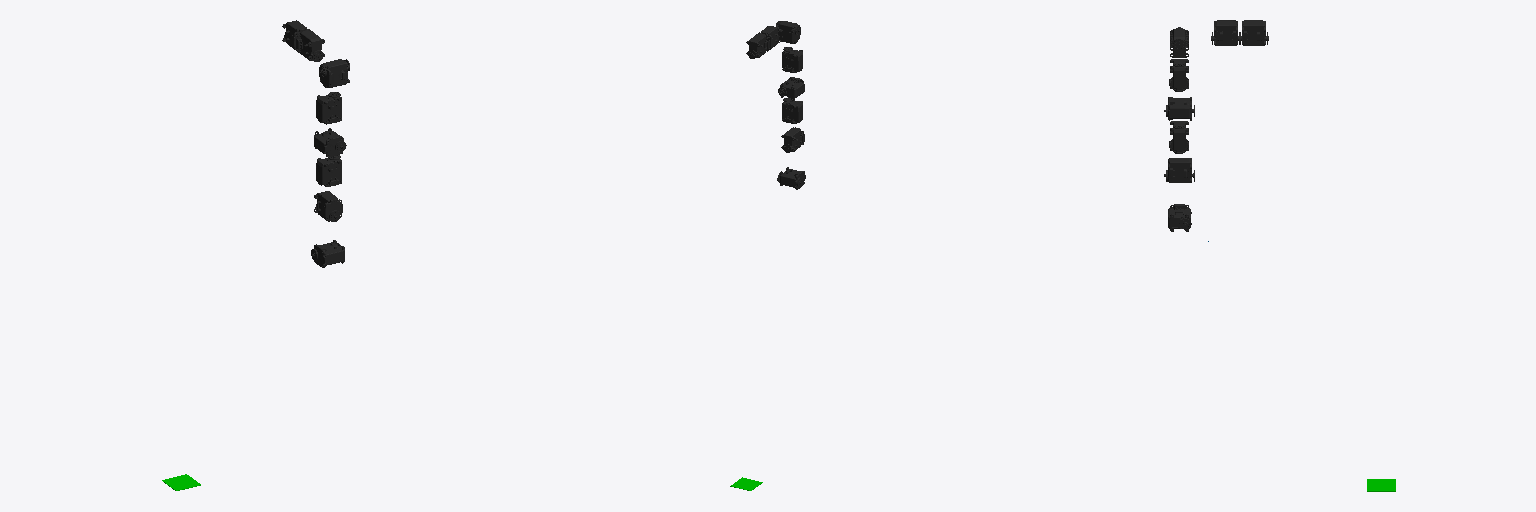
The robot description file, URDF, robot "akira":
<?xml version="1.0" ?>
<!-- =================================================================================== -->
<!-- |    This document was autogenerated by xacro from akira_with_arm.xacro           | -->
<!-- |    EDITING THIS FILE BY HAND IS NOT RECOMMENDED                                 | -->
<!-- =================================================================================== -->
<robot name="akira" xmlns:xacro="http://ros.org/wiki/xacro">
  <!-- Define a number of dimensions using properties -->
  <!-- Include all component files -->
  <material name="Black">
    <color rgba="0.2 0.2 0.2 1.0"/>
  </material>
  <material name="TransparentBlack">
    <color rgba="0.2 0.2 0.2 0.8"/>
  </material>
  <material name="Orange">
    <color rgba="1.0 0.55 0.0 1.0"/>
  </material>
  <material name="Grey">
    <color rgba="0.7 0.7 0.7 1.0"/>
  </material>
  <material name="DarkGrey">
    <color rgba="0.3 0.3 0.3 1.0"/>
  </material>
  <material name="Red">
    <color rgba="0.8 0.0 0.0 1.0"/>
  </material>
  <material name="White">
    <color rgba="1.0 1.0 1.0 1.0"/>
  </material>
  <material name="OffWhite">
    <color rgba="0.8 0.8 0.8 1.0"/>
  </material>
  <material name="Blue">
    <color rgba="0.0 0.0 0.8 1.0"/>
  </material>
  <material name="Green">
    <color rgba="0.0 0.8 0.0 1.0"/>
  </material>
  <material name="TransparentGreen">
    <color rgba="0.0 0.8 0.0 0.5"/>
  </material>
  <link name="base_footprint">
    <visual>
      <origin rpy="0 0 0" xyz="0 0 0"/>
      <geometry>
        <box size="0.05 0.05 0.001"/>
      </geometry>
      <material name="TransparentGreen"/>
    </visual>
  </link>
  <joint name="base_joint" type="fixed">
    <origin rpy="0 0 0" xyz="0 0 0.15"/>
    <parent link="base_footprint"/>
    <child link="base_link"/>
  </joint>
  <!-- Add the base and wheels -->
  <link name="base_link">
    <!-- kokoha atode mesh ninarukamo -->
    <visual>
      <origin rpy="0 0 0" xyz="0 0 0"/>
      <geometry>
        <mesh filename="package://akira_description/meshes/akira_vehicle.stl" scale="1.0 1.0 1.0"/>
      </geometry>
      <material name="Black"/>
    </visual>
    <collision>
      <origin rpy="0 0 0" xyz="0 0 0"/>
      <geometry>
        <!-- OK? -->
        <cylinder length="0.3" radius="0.25"/>
      </geometry>
    </collision>
  </link>
  <!-- Attach the torso -->
  <joint name="base_torso_joint" type="fixed">
    <origin rpy="0 0 0" xyz="0.0 0.0 0.55"/>
    <parent link="base_link"/>
    <child link="torso_link"/>
  </joint>
  <link name="torso_link">
    <visual>
      <origin rpy="0 0 0" xyz="0 0 0"/>
      <geometry>
        <mesh filename="package://akira_description/meshes/akira_torso.stl" scale="1.0 1.0 1.0"/>
      </geometry>
      <material name="Grey"/>
    </visual>
    <collision>
      <origin rpy="0 0 0" xyz="0 0 0"/>
      <geometry>
        <box size="0.29 0.46 0.77"/>
      </geometry>
    </collision>
  </link>
  <!-- Attach the right arm -->
  <link name="right_arm_base_link"/>
  <joint name="right_arm_base_joint" type="fixed">
    <origin rpy="0 0 0" xyz="0.1 -0.2 0.2"/>
    <parent link="torso_link"/>
    <child link="right_arm_base_link"/>
  </joint>
  <joint name="right_arm_shoulder_lift_R_joint" type="revolute">
    <origin rpy="-1.570795 1.570795 0" xyz="0 0 0"/>
    <axis xyz="0 0 1"/>
    <limit effort="1.0" lower="-3.14" upper="3.14" velocity="1.571"/>
    <parent link="right_arm_base_link"/>
    <child link="right_arm_shoulder_lift_R_link"/>
  </joint>
  <link name="right_arm_shoulder_lift_R_link">
    <inertial>
      <mass value="0.00001"/>
      <origin xyz="0 0 0"/>
      <inertia ixx="1.0" ixy="0.0" ixz="0.0" iyy="1.0" iyz="0.0" izz="1.0"/>
    </inertial>
    <visual>
      <origin rpy="0 0 0" xyz="0 0 0"/>
      <geometry>
        <mesh filename="package://akira_description/meshes/RS405CB.stl" scale="0.001 0.001 0.001"/>
      </geometry>
      <material name="Black"/>
    </visual>
    <collision>
      <origin rpy="0 0 0" xyz="-0.01 0.0 -0.0225"/>
      <geometry>
        <box size="0.043 0.033 0.045"/>
      </geometry>
    </collision>
  </link>
  <joint name="right_arm_shoulder_lift_L_joint" type="revolute">
    <origin rpy="1.570795 1.570795 0" xyz="0 -0.09 0"/>
    <axis xyz="0 0 1"/>
    <limit effort="1.0" lower="-3.14" upper="3.14" velocity="1.571"/>
    <parent link="right_arm_base_link"/>
    <child link="right_arm_shoulder_lift_L_link"/>
  </joint>
  <link name="right_arm_shoulder_lift_L_link">
    <inertial>
      <mass value="0.00001"/>
      <origin xyz="0 0 0"/>
      <inertia ixx="1.0" ixy="0.0" ixz="0.0" iyy="1.0" iyz="0.0" izz="1.0"/>
    </inertial>
    <visual>
      <origin rpy="0 0 0" xyz="0 0 0"/>
      <geometry>
        <mesh filename="package://akira_description/meshes/RS405CB.stl" scale="0.001 0.001 0.001"/>
      </geometry>
      <material name="Black"/>
    </visual>
    <collision>
      <origin rpy="0 0 0" xyz="-0.01 0.0 -0.0225"/>
      <geometry>
        <box size="0.043 0.033 0.045"/>
      </geometry>
    </collision>
  </link>
  <joint name="right_arm_shoulder_roll_joint" type="revolute">
    <origin rpy="1.570795 0 3.14159" xyz="0 0.0215 0.06"/>
    <axis xyz="0 0 1"/>
    <limit effort="1.0" lower="-3.14" upper="3.14" velocity="1.571"/>
    <parent link="right_arm_shoulder_lift_L_link"/>
    <child link="right_arm_shoulder_roll_link"/>
  </joint>
  <link name="right_arm_shoulder_roll_link">
    <inertial>
      <mass value="0.00001"/>
      <origin xyz="0 0 0"/>
      <inertia ixx="1.0" ixy="0.0" ixz="0.0" iyy="1.0" iyz="0.0" izz="1.0"/>
    </inertial>
    <visual>
      <origin rpy="0 0 0" xyz="0 0 0"/>
      <geometry>
        <mesh filename="package://akira_description/meshes/RS405CB.stl" scale="0.001 0.001 0.001"/>
      </geometry>
      <material name="Black"/>
    </visual>
    <collision>
      <origin rpy="0 0 0" xyz="-0.01 0.0 -0.0225"/>
      <geometry>
        <box size="0.043 0.033 0.045"/>
      </geometry>
    </collision>
  </link>
  <joint name="right_arm_shoulder_pan_joint" type="revolute">
    <origin rpy="3.14159 -1.570795 0" xyz="-0.052 0 -0.0215"/>
    <axis xyz="0 0 1"/>
    <limit effort="1.0" lower="-2.7" upper="2.7" velocity="1.571"/>
    <parent link="right_arm_shoulder_roll_link"/>
    <child link="right_arm_shoulder_pan_link"/>
  </joint>
  <link name="right_arm_shoulder_pan_link">
    <inertial>
      <mass value="0.00001"/>
      <origin xyz="0 0 0"/>
      <inertia ixx="1.0" ixy="0.0" ixz="0.0" iyy="1.0" iyz="0.0" izz="1.0"/>
    </inertial>
    <visual>
      <origin rpy="0 0 0" xyz="0 0 0"/>
      <geometry>
        <mesh filename="package://akira_description/meshes/RS405CB.stl" scale="0.001 0.001 0.001"/>
      </geometry>
      <material name="Black"/>
    </visual>
    <collision>
      <origin rpy="0 0 0" xyz="-0.01 0.0 -0.0225"/>
      <geometry>
        <box size="0.043 0.033 0.045"/>
      </geometry>
    </collision>
  </link>
  <joint name="right_arm_elbow_flex_joint" type="revolute">
    <origin rpy="-1.570795 0 0" xyz="0 0.0225 -0.0865"/>
    <axis xyz="0 0 1"/>
    <limit effort="1.0" lower="-2.7" upper="2.7" velocity="1.571"/>
    <parent link="right_arm_shoulder_pan_link"/>
    <child link="right_arm_elbow_flex_link"/>
  </joint>
  <link name="right_arm_elbow_flex_link">
    <inertial>
      <mass value="0.00001"/>
      <origin xyz="0 0 0"/>
      <inertia ixx="1.0" ixy="0.0" ixz="0.0" iyy="1.0" iyz="0.0" izz="1.0"/>
    </inertial>
    <visual>
      <origin rpy="0 0 0" xyz="0 0 0"/>
      <geometry>
        <mesh filename="package://akira_description/meshes/RS405CB.stl" scale="0.001 0.001 0.001"/>
      </geometry>
      <material name="Black"/>
    </visual>
    <collision>
      <origin rpy="0 0 0" xyz="-0.01 0.0 -0.0225"/>
      <geometry>
        <box size="0.043 0.033 0.045"/>
      </geometry>
    </collision>
  </link>
  <joint name="right_arm_forearm_flex_joint" type="revolute">
    <origin rpy="1.570795 0 0" xyz="0 0.032 -0.0225"/>
    <axis xyz="0 0 1"/>
    <limit effort="1.0" lower="-2.7" upper="2.7" velocity="1.571"/>
    <parent link="right_arm_elbow_flex_link"/>
    <child link="right_arm_forearm_flex_link"/>
  </joint>
  <link name="right_arm_forearm_flex_link">
    <inertial>
      <mass value="0.00001"/>
      <origin xyz="0 0 0"/>
      <inertia ixx="1.0" ixy="0.0" ixz="0.0" iyy="1.0" iyz="0.0" izz="1.0"/>
    </inertial>
    <visual>
      <origin rpy="0 0 0" xyz="0 0 0"/>
      <geometry>
        <mesh filename="package://akira_description/meshes/RS405CB.stl" scale="0.001 0.001 0.001"/>
      </geometry>
      <material name="Black"/>
    </visual>
    <collision>
      <origin rpy="0 0 0" xyz="-0.01 0.0 -0.0225"/>
      <geometry>
        <box size="0.043 0.033 0.045"/>
      </geometry>
    </collision>
  </link>
  <joint name="right_arm_wrist_flex_joint" type="revolute">
    <origin rpy="-1.570795 1.570795 0" xyz="-0.012 0.0225 -0.097"/>
    <axis xyz="0 0 1"/>
    <limit effort="1.0" lower="-2.7" upper="2.7" velocity="1.571"/>
    <parent link="right_arm_forearm_flex_link"/>
    <child link="right_arm_wrist_flex_link"/>
  </joint>
  <link name="right_arm_wrist_flex_link">
    <inertial>
      <mass value="0.00001"/>
      <origin xyz="0 0 0"/>
      <inertia ixx="1.0" ixy="0.0" ixz="0.0" iyy="1.0" iyz="0.0" izz="1.0"/>
    </inertial>
    <visual>
      <origin rpy="0 0 0" xyz="0 0 0"/>
      <geometry>
        <mesh filename="package://akira_description/meshes/RS405CB.stl" scale="0.001 0.001 0.001"/>
      </geometry>
      <material name="Black"/>
    </visual>
    <collision>
      <origin rpy="0 0 0" xyz="-0.01 0.0 -0.0225"/>
      <geometry>
        <box size="0.043 0.033 0.045"/>
      </geometry>
    </collision>
  </link>
  <!-- Attach the right gripper -->
  <joint name="right_gripper_base_joint" type="revolute">
    <origin rpy="1.570795 -1.570795 0" xyz="0.0805 -0.023 -0.012"/>
    <axis xyz="0 0 1"/>
    <limit effort="1.0" lower="-3.14" upper="3.14" velocity="1.571"/>
    <parent link="right_arm_wrist_flex_link"/>
    <child link="right_gripper_base_link"/>
  </joint>
  <link name="right_gripper_base_link">
    <inertial>
      <mass value="0.00001"/>
      <origin xyz="0 0 0"/>
      <inertia ixx="1.0" ixy="0.0" ixz="0.0" iyy="1.0" iyz="0.0" izz="1.0"/>
    </inertial>
    <visual>
      <origin rpy="0 0 0" xyz="0 0 0"/>
      <geometry>
        <mesh filename="package://akira_description/meshes/RS405CB.stl" scale="0.001 0.001 0.001"/>
      </geometry>
      <material name="Black"/>
    </visual>
    <collision>
      <origin rpy="0 0 0" xyz="-0.01 0.0 -0.0225"/>
      <geometry>
        <box size="0.043 0.033 0.045"/>
      </geometry>
    </collision>
  </link>
  <joint name="right_gripper_joint" type="fixed">
    <axis xyz="0 0 1"/>
    <origin rpy="1.570795 0 0" xyz="0.04 -0.045 -0.0225"/>
    <parent link="right_gripper_base_link"/>
    <child link="right_gripper_link"/>
  </joint>
  <link name="right_gripper_link">
    <visual>
      <origin rpy="0 0 0" xyz="0 0 0"/>
      <geometry>
        <box size="0.001 0.0005 0.0005"/>
      </geometry>
    </visual>
  </link>
</robot>

--- Render facts (derived) ---
3 views of the same robot in one strip: view 1: azimuth 30°, elevation 25°; view 2: azimuth 150°, elevation 25°; view 3: azimuth 270°, elevation 25° (orthographic).
Model akira with 13 links and 12 joints (8 revolute, 4 fixed), rooted at base_footprint, posed all joints at 0.
Visible links, largest first — view 1: right_arm_shoulder_roll_link, right_arm_shoulder_pan_link, right_arm_forearm_flex_link, right_arm_shoulder_lift_L_link, right_gripper_base_link, right_arm_wrist_flex_link, right_arm_elbow_flex_link; view 2: none; view 3: right_arm_shoulder_lift_R_link, right_arm_shoulder_lift_L_link, right_arm_wrist_flex_link, right_gripper_base_link, right_arm_elbow_flex_link, right_arm_shoulder_pan_link, right_arm_forearm_flex_link.
Link boxes in pixels (x1,y1,x2,y2): right_arm_shoulder_roll_link: (319, 59, 349, 87); right_arm_shoulder_pan_link: (316, 92, 341, 124); right_arm_forearm_flex_link: (316, 155, 341, 186); right_arm_shoulder_lift_L_link: (296, 30, 324, 61); right_gripper_base_link: (311, 240, 344, 267); right_arm_wrist_flex_link: (314, 191, 342, 221); right_arm_elbow_flex_link: (314, 128, 346, 156); right_arm_shoulder_lift_R_link: (1240, 20, 1268, 45); right_arm_shoulder_lift_L_link: (1211, 20, 1239, 45); right_arm_wrist_flex_link: (1164, 158, 1194, 182); right_gripper_base_link: (1168, 204, 1191, 231); right_arm_elbow_flex_link: (1164, 97, 1194, 120); right_arm_shoulder_pan_link: (1169, 59, 1188, 91); right_arm_forearm_flex_link: (1169, 121, 1188, 153).
Size in the robot's own frame: 0.1515 by 0.4018 by 0.9307 metres.
8 mesh visuals loaded from 3 distinct referenced files (1 binary STL); not drawn: 2 (reference not matched to a file when rendering).
